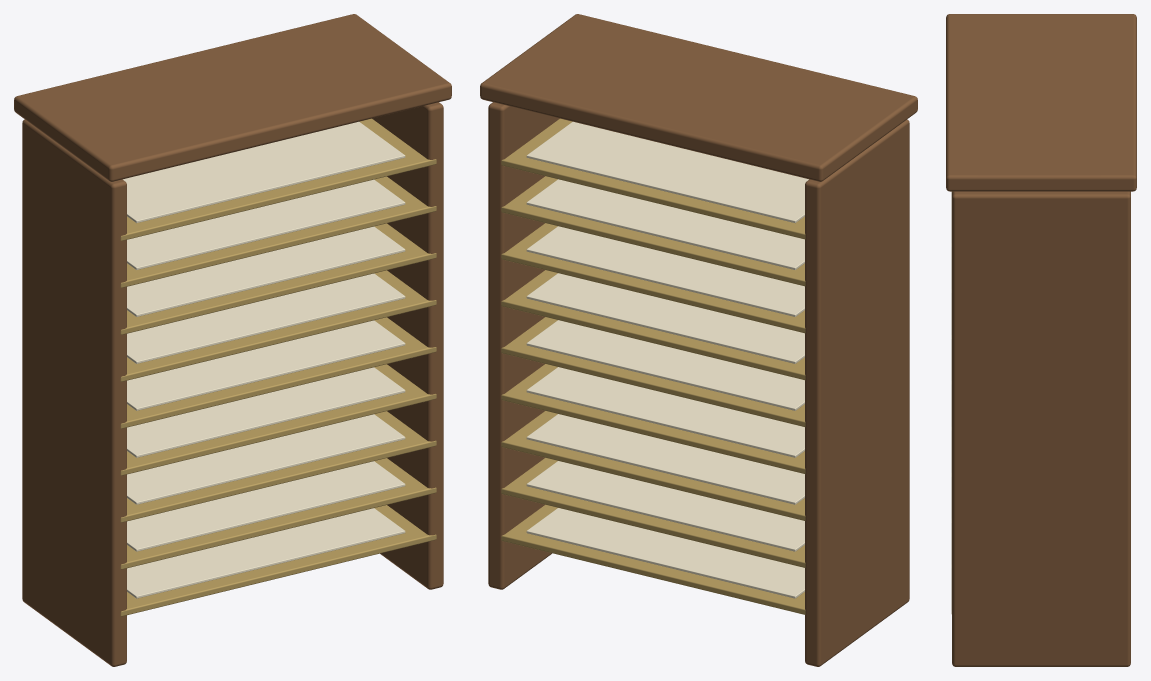
Rendered from fantasy-cartographers-map-printing-guild-print-drying--3300a1d2__32257.glb.
The picture shows the model from 3 angles, left to right: view 1: azimuth 30°, elevation 25°; view 2: azimuth 150°, elevation 25°; view 3: azimuth 270°, elevation 25°; orthographic projection. The views are drawn at different scales.
Visible parts, largest first — view 1: print-drying-rack; view 2: print-drying-rack; view 3: print-drying-rack.
Part boxes in pixels (left/top/right/bottom): print-drying-rack: left=14, top=14, right=451, bottom=666; print-drying-rack: left=480, top=14, right=917, bottom=666; print-drying-rack: left=946, top=14, right=1136, bottom=666.
Size of the model in its own units: 1.3 by 1.83 by 0.6401.
